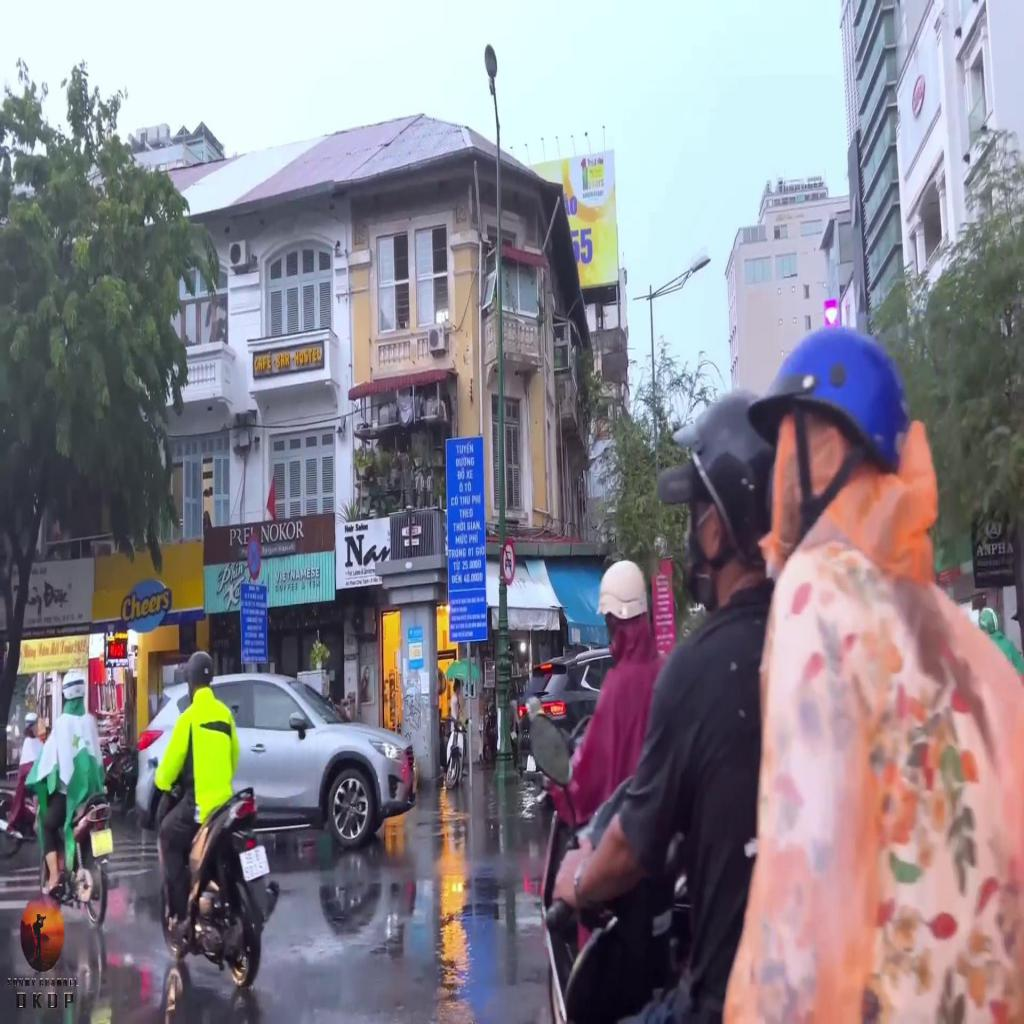cam_o_to: (502, 533, 518, 588)
khac: (245, 532, 264, 581)
